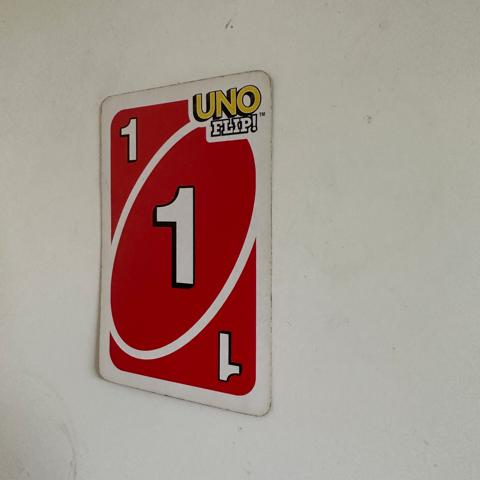7_red: (146, 179, 219, 296), (206, 323, 247, 386), (110, 116, 151, 163)
